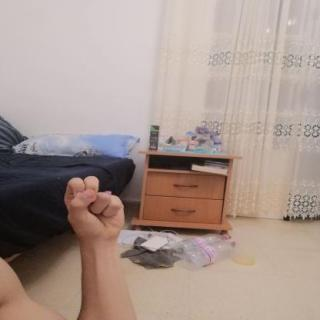QAAF: (54, 172, 136, 248)
